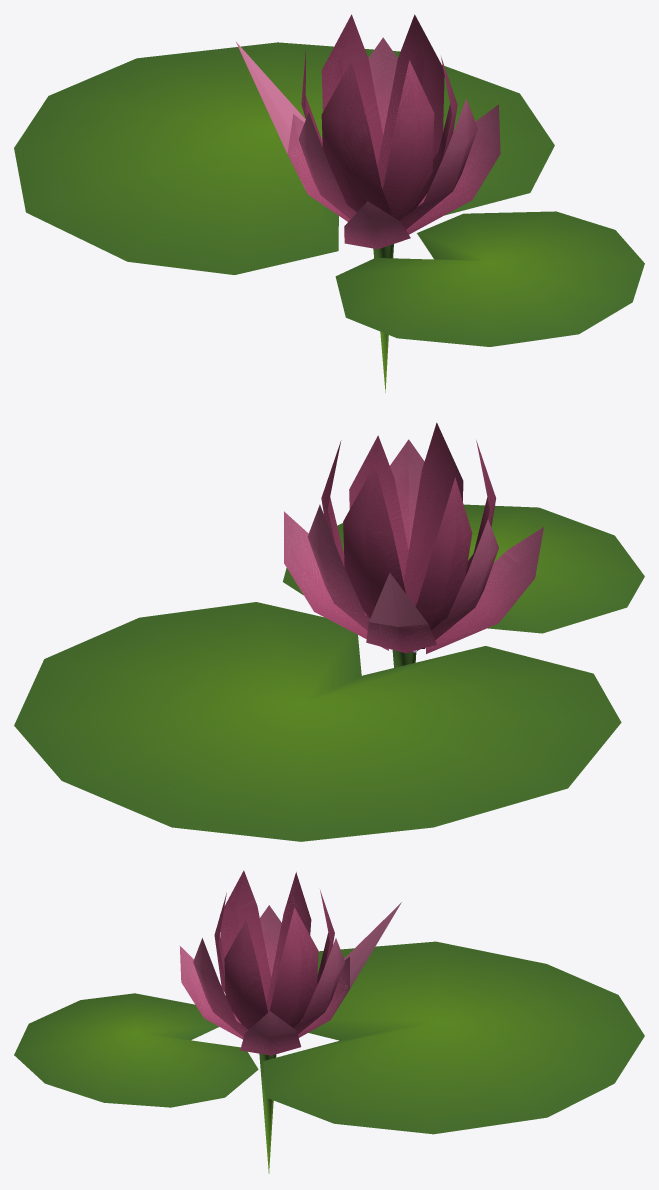
The model's file is Water_Plant_3A.fbx.
The picture shows the model from 3 angles, top to bottom: view 1: azimuth 30°, elevation 25°; view 2: azimuth 150°, elevation 25°; view 3: azimuth 270°, elevation 25°; orthographic projection. The views are drawn at different scales.
Parts seen in each view (by area): view 1: Water_Plant_3A; view 2: Water_Plant_3A; view 3: Water_Plant_3A.
Part boxes in pixels (x1,y1,x2,y2): Water_Plant_3A: (14,14,644,392); Water_Plant_3A: (14,422,644,841); Water_Plant_3A: (14,870,644,1173).
Size of the model in its own units: 57.94 by 40.16 by 80.15.
